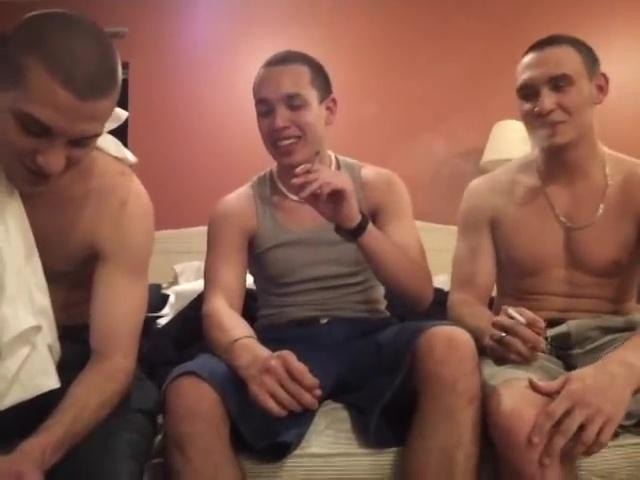cigarette: (504, 306, 529, 325), (309, 148, 323, 175)
